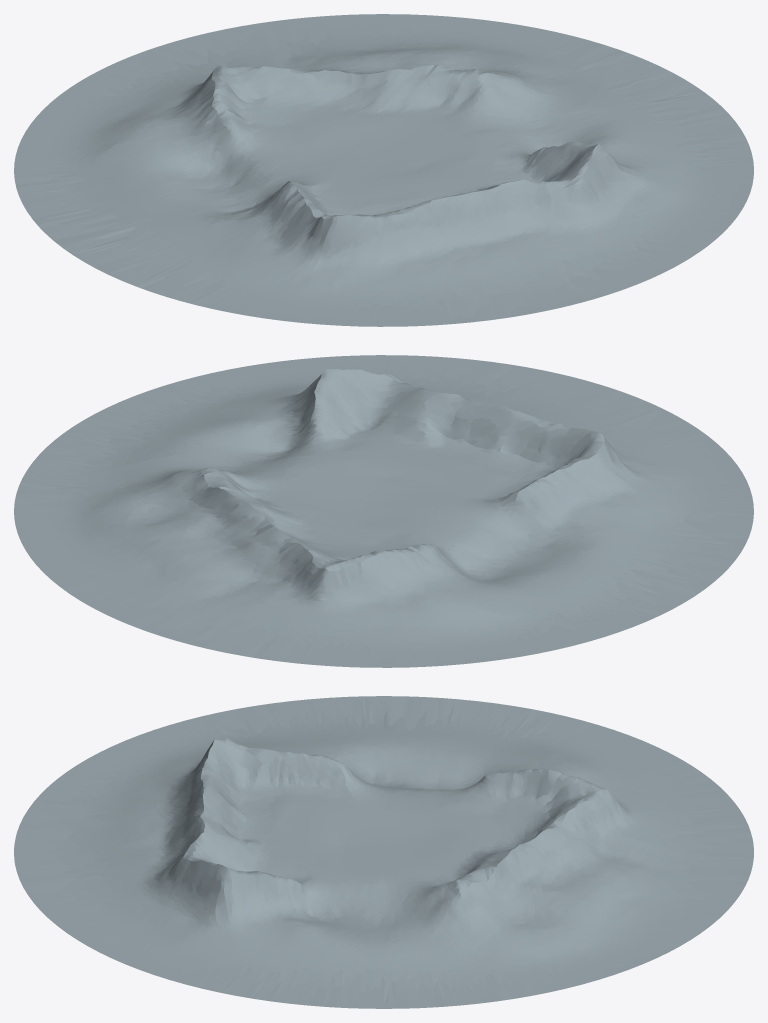
Rendered from island_map_A_circle_deep.fbx.
3 views of the same model, one above another, from view 1: azimuth 30°, elevation 25°; view 2: azimuth 150°, elevation 25°; view 3: azimuth 270°, elevation 25° (orthographic).
Visible parts, largest first — view 1: island_map_A_circle_deep; view 2: island_map_A_circle_deep; view 3: island_map_A_circle_deep.
Boxes of the visible parts, <box> form: island_map_A_circle_deep: <box>14,14,753,326</box>; island_map_A_circle_deep: <box>14,355,753,667</box>; island_map_A_circle_deep: <box>14,696,753,1008</box>.
Size of the model in its own units: 25211 by 2023 by 25204.
